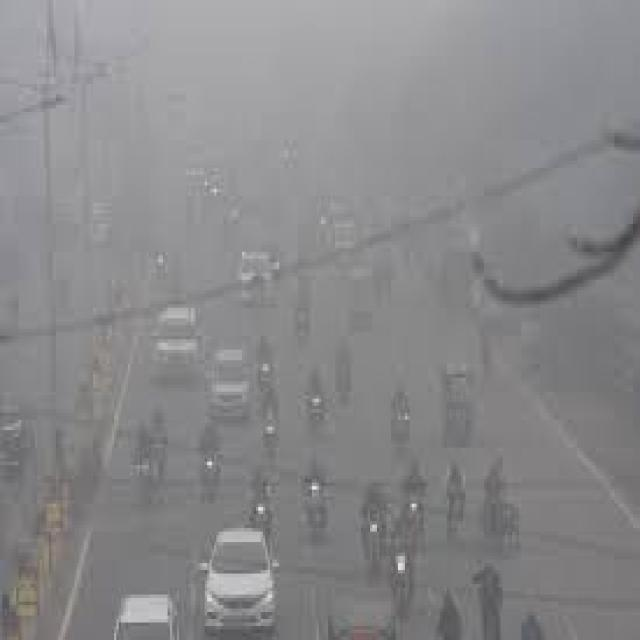moderate_traffic: (100, 137, 550, 640)
